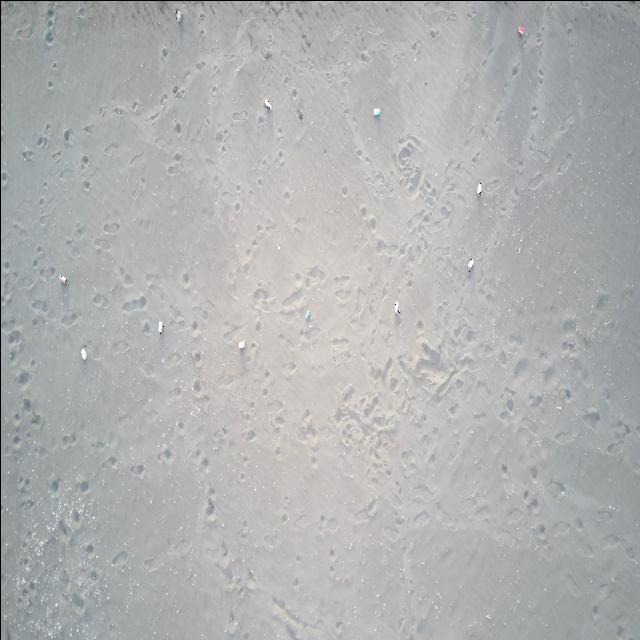Garbage: (80, 346, 87, 360), (516, 24, 524, 35), (263, 99, 271, 108), (60, 273, 67, 283), (304, 308, 310, 319), (393, 301, 399, 312), (176, 9, 181, 22), (372, 108, 380, 116), (158, 320, 163, 332), (476, 181, 480, 195), (239, 340, 244, 350), (468, 259, 472, 271)
